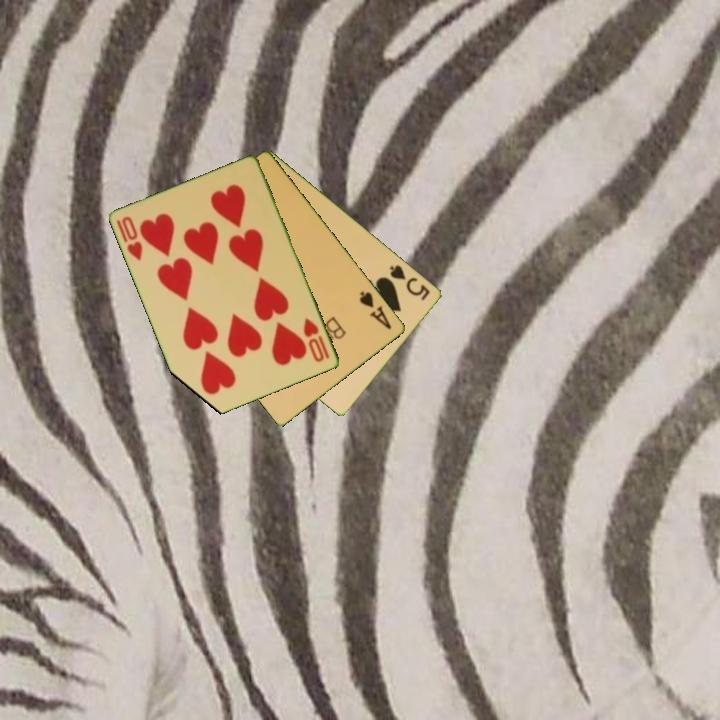10h: (300, 314, 333, 365), (113, 213, 146, 264)
5s: (386, 261, 433, 303)
As: (356, 288, 395, 332)
